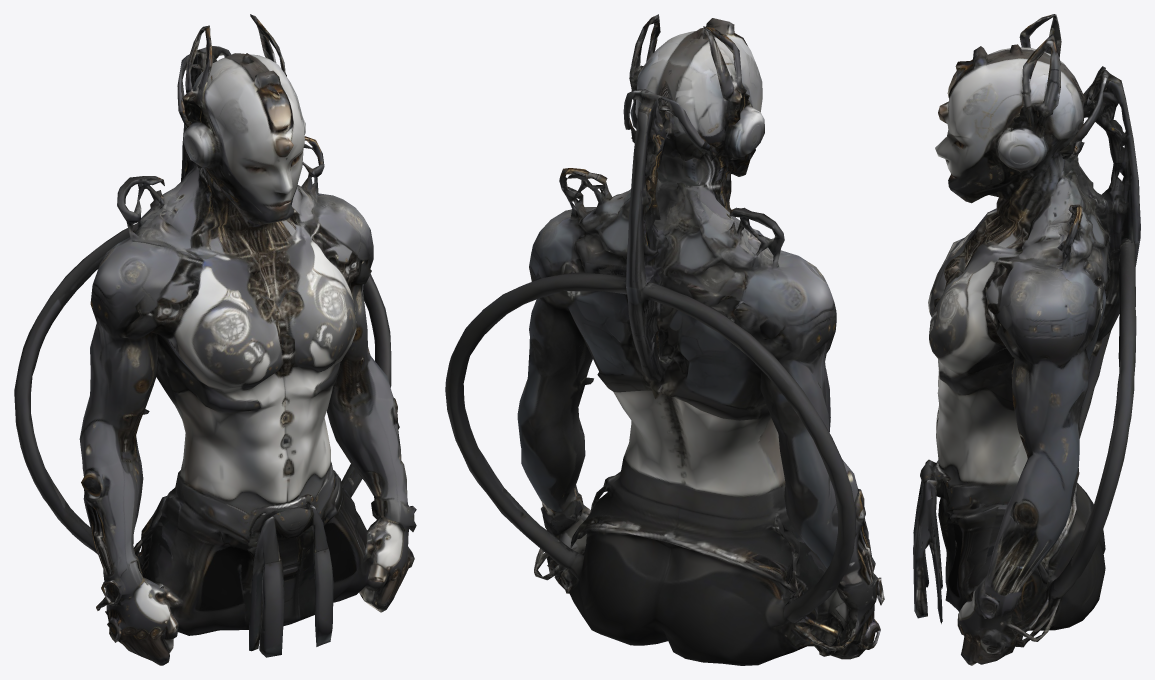
File: automoton-torso.glb
3 renders of one model, left to right at view 1: azimuth 30°, elevation 25°; view 2: azimuth 150°, elevation 25°; view 3: azimuth 270°, elevation 25°, orthographic. The views are drawn at different scales.
Size of the model in its own units: 1.31 by 1.98 by 0.6959.
Materials: 1 (1 with a texture image).
